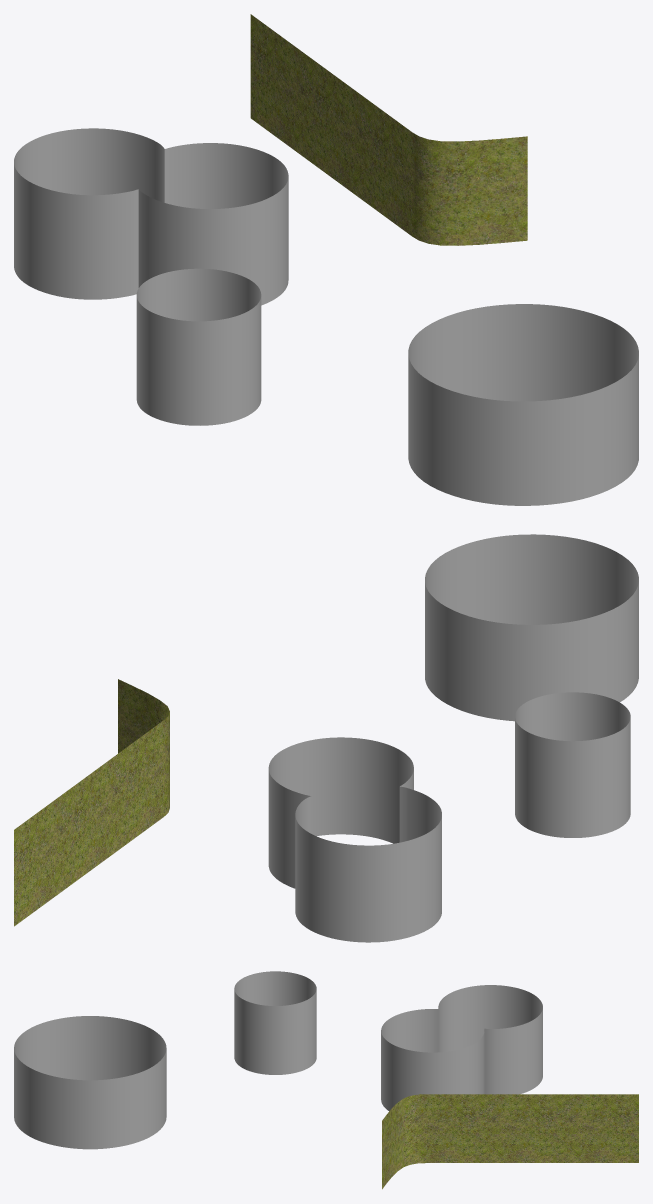
File: glass.fbx
The picture shows the model from 3 angles, top to bottom: view 1: azimuth 30°, elevation 25°; view 2: azimuth 150°, elevation 25°; view 3: azimuth 270°, elevation 25°; orthographic projection. The views are drawn at different scales.
Parts seen in each view (by area): view 1: Object1889; view 2: Object1889; view 3: Object1889.
Part boxes in pixels (x1,y1,x2,y2): Object1889: (14, 14, 638, 505); Object1889: (14, 534, 638, 942); Object1889: (14, 971, 638, 1189).
Bounding box in the file's own units: 103652 × 22360 × 183387.
